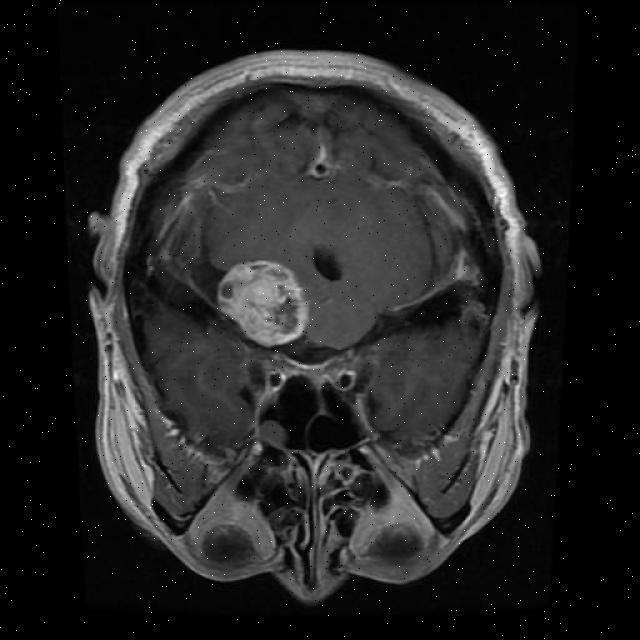Meningioma: (218, 261, 308, 347)
